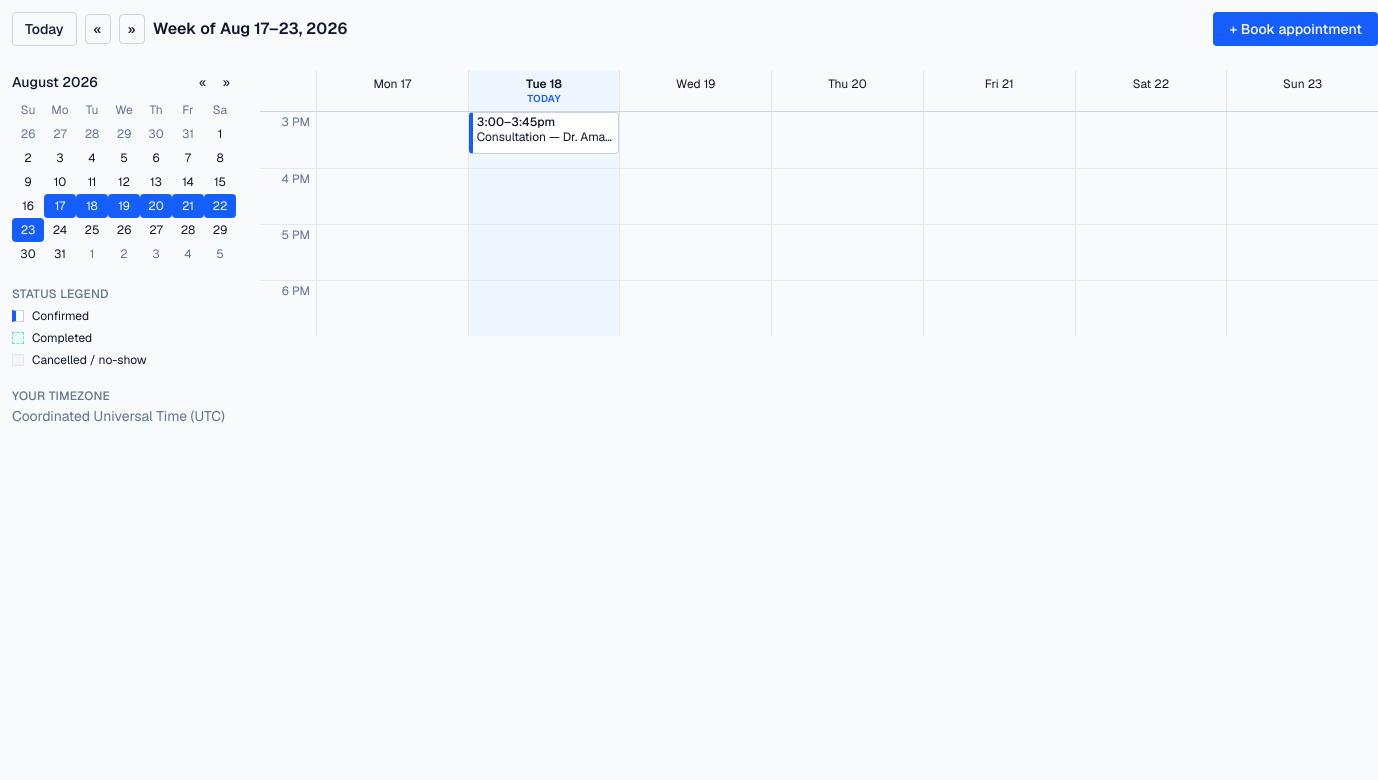
Scenario: PatientCalendar › navigates prev/next week and Today by re-filtering the one fetched list, never re-fetching
The width and height of the screenshot is (1378, 780).
Expected: the text "Consultation — Dr. Amara Rossi" is shown, [477,130,614,145]
What coordinates should you click on to do the following:
click the button named "Go to next week"
I would click on:
 (132, 29)
Its box is [119,14,145,44].
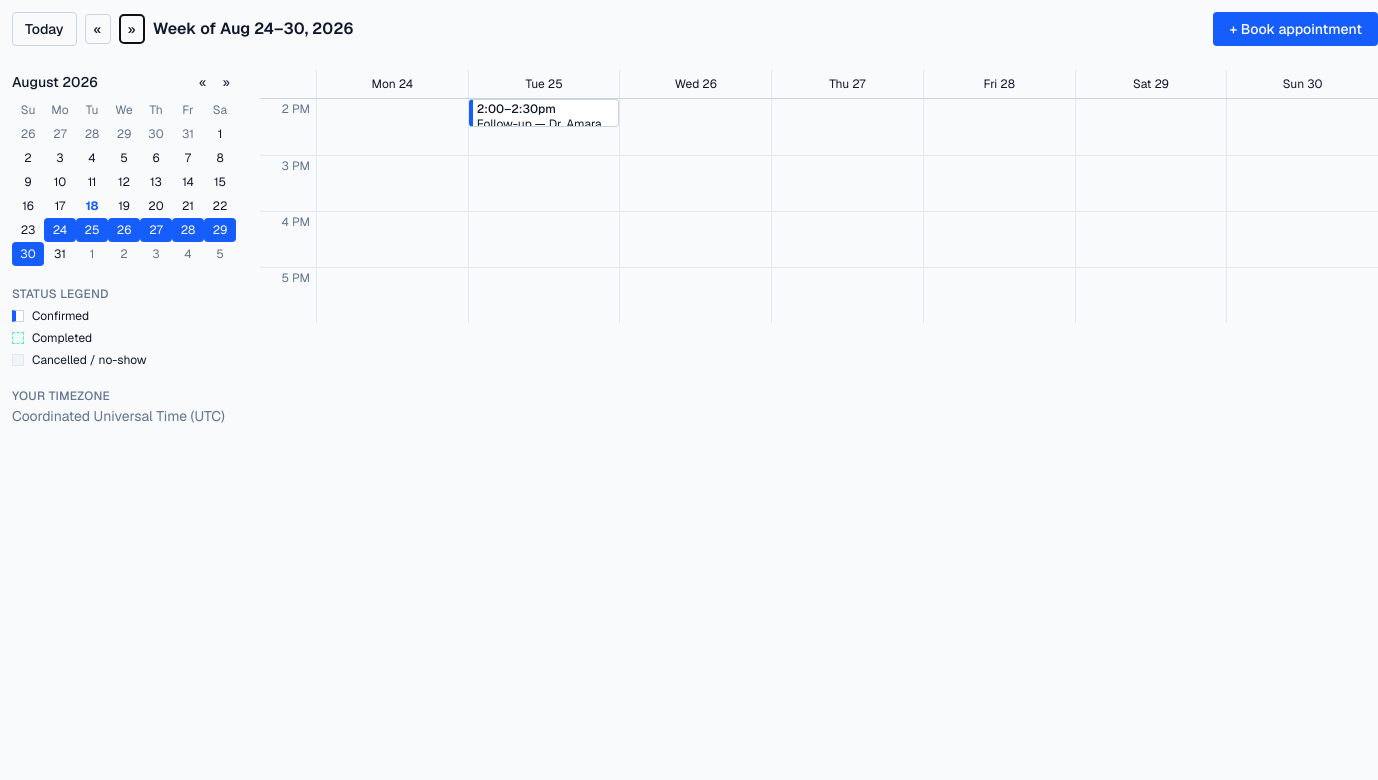
Expected: the text "Week of Aug 24–30, 2026" is shown, [153,17,353,41]
Expected: the text "Follow-up — Dr. Amara Rossi" is shown, [477,117,614,127]
Expected: the text "Consultation — Dr. Amara Rossi" is gone
What coordinates should you click on to do the following:
click the button "Today"
I would click on:
 (44, 29)
Its box is [12,12,77,46].
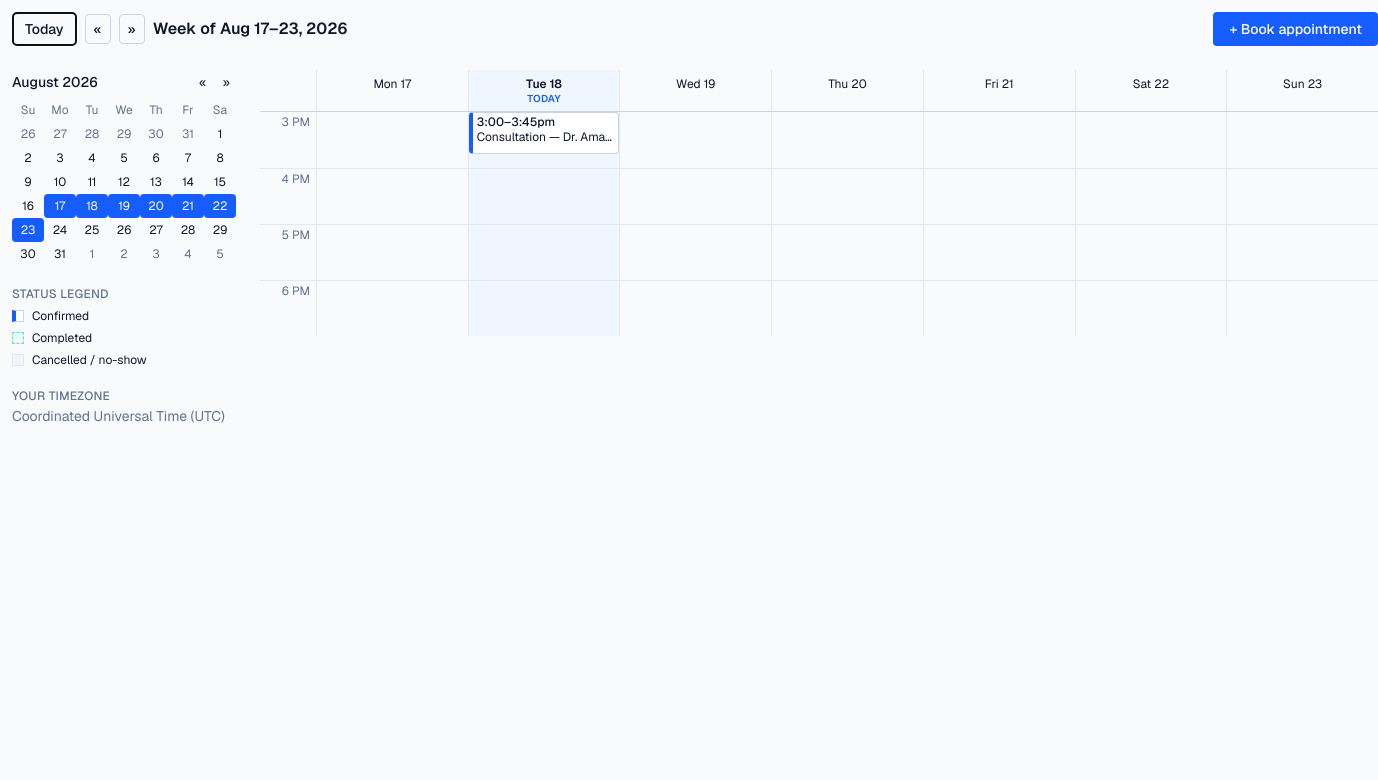
Expected: the text "Week of Aug 17–23, 2026" is shown, [153,17,347,41]
Expected: the text "Consultation — Dr. Amara Rossi" is shown, [477,130,614,145]
What coordinates should you click on to do the following:
click the button named "Go to previous week"
I would click on:
 (98, 29)
Its box is [85,14,111,44].
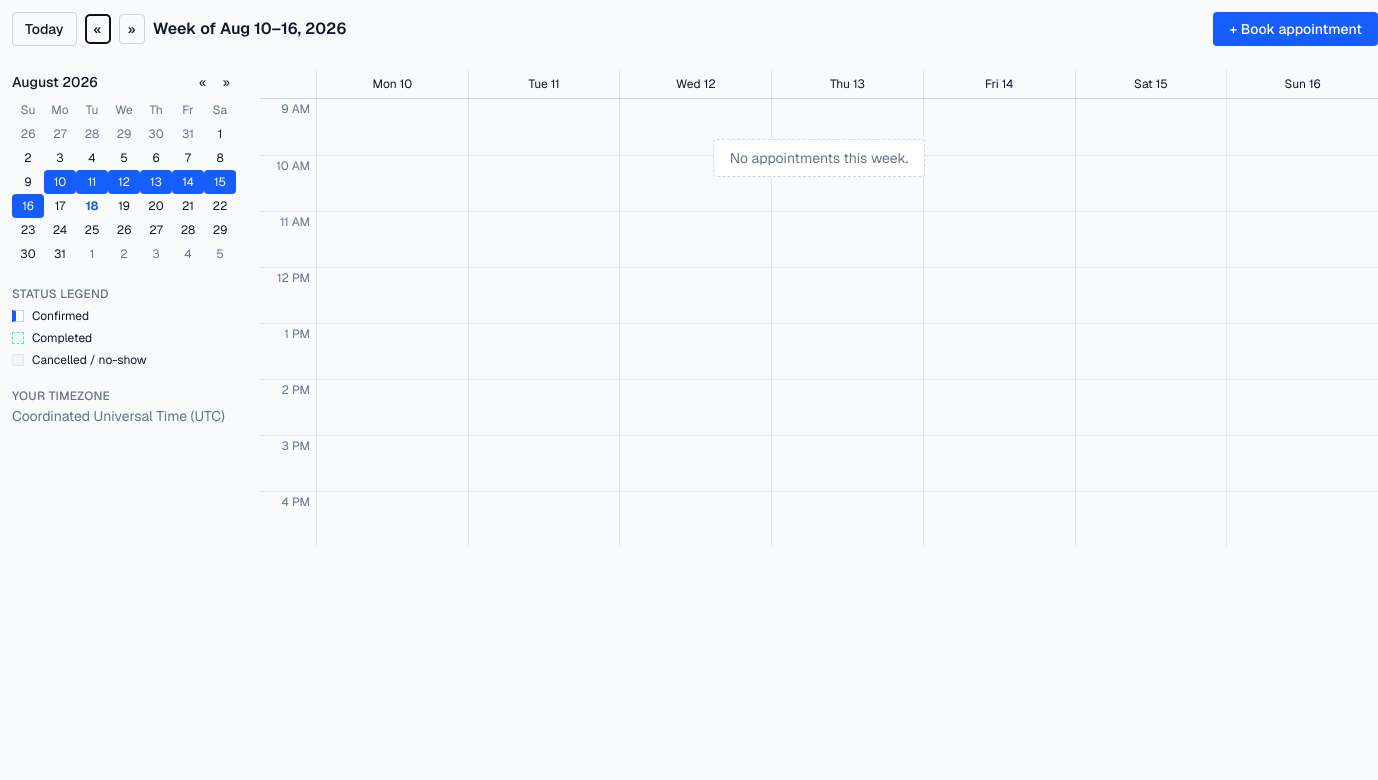
Expected: the text "Week of Aug 10–16, 2026" is shown, [153,17,346,41]
Expected: the text "No appointments this week." is shown, [713,139,925,177]
